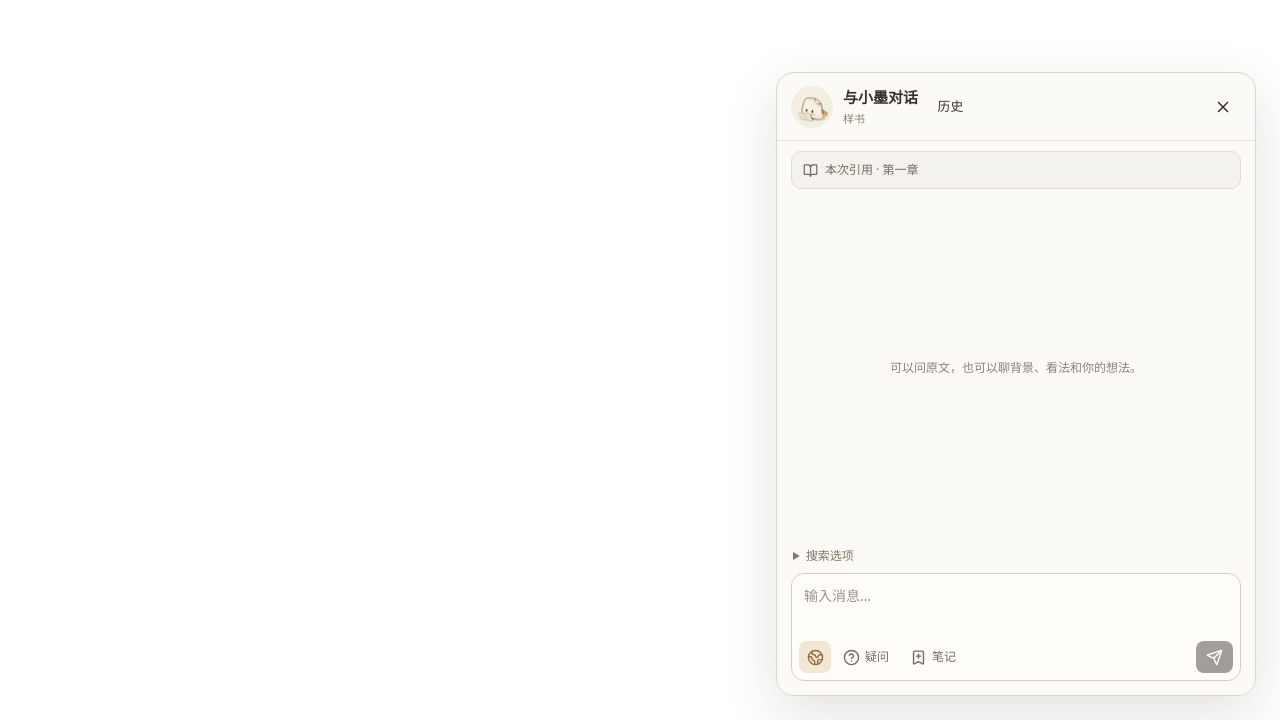
小墨浮动对话 › shows a reversible 笔记 marker instead of saving duplicates
Type "先留在这里。" into the text box labelled "输入消息". click: coordinates (1016, 605)
box: [792,574,1240,636]
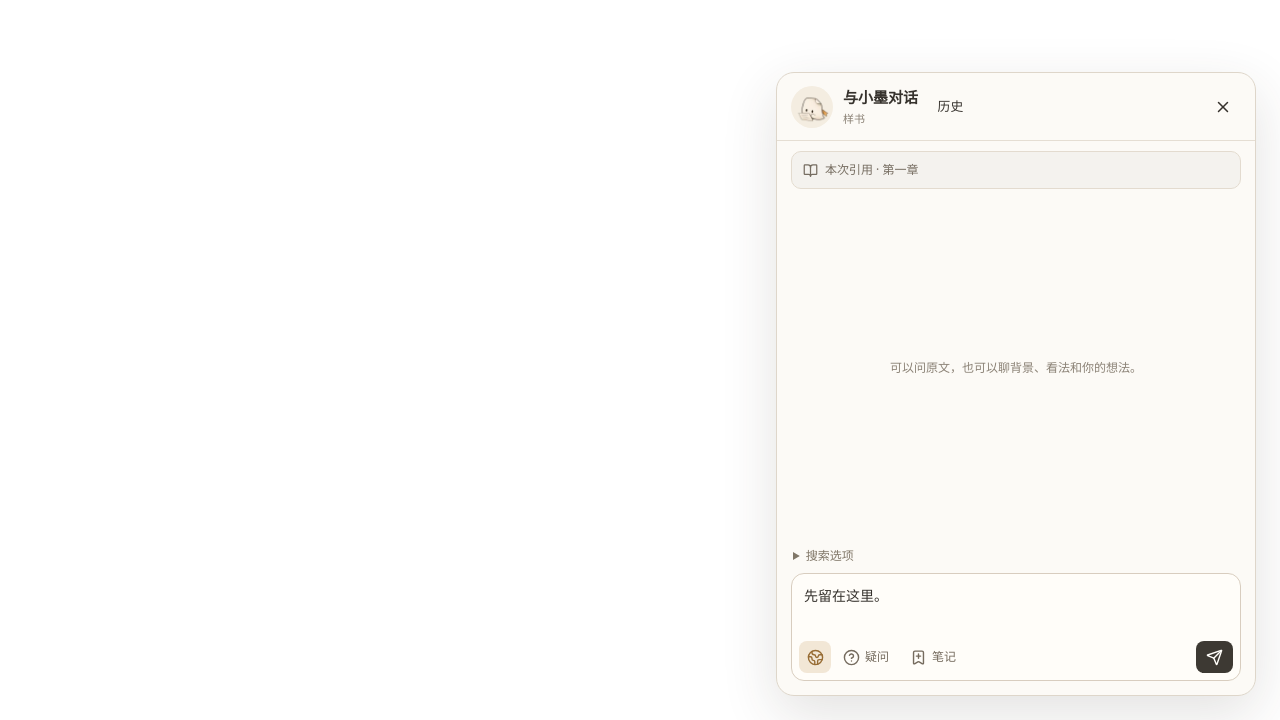
Click the button with aria-label "标记笔记". click: coordinates (933, 657)
box: [901,641,965,673]
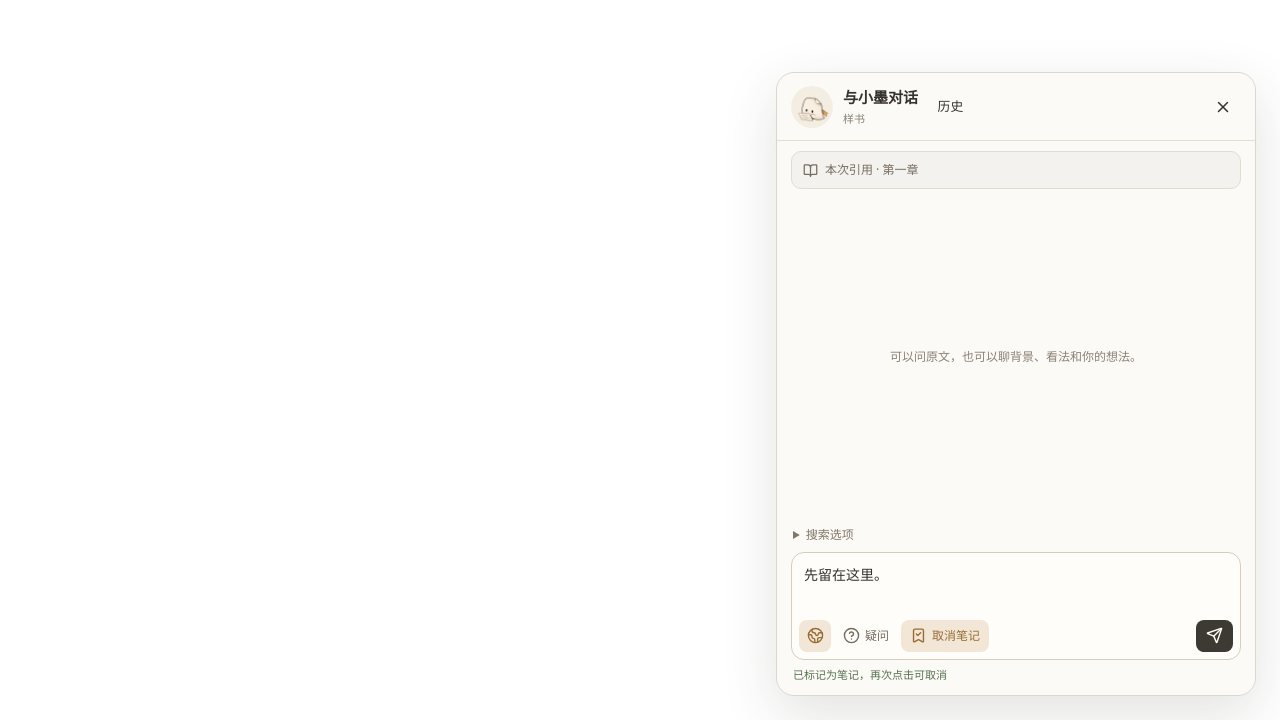
Expected: the message shows "已标记为笔记", [793,666,947,682]
Click the button with aria-label "取消笔记标记". click: coordinates (945, 636)
box: [901,620,989,652]
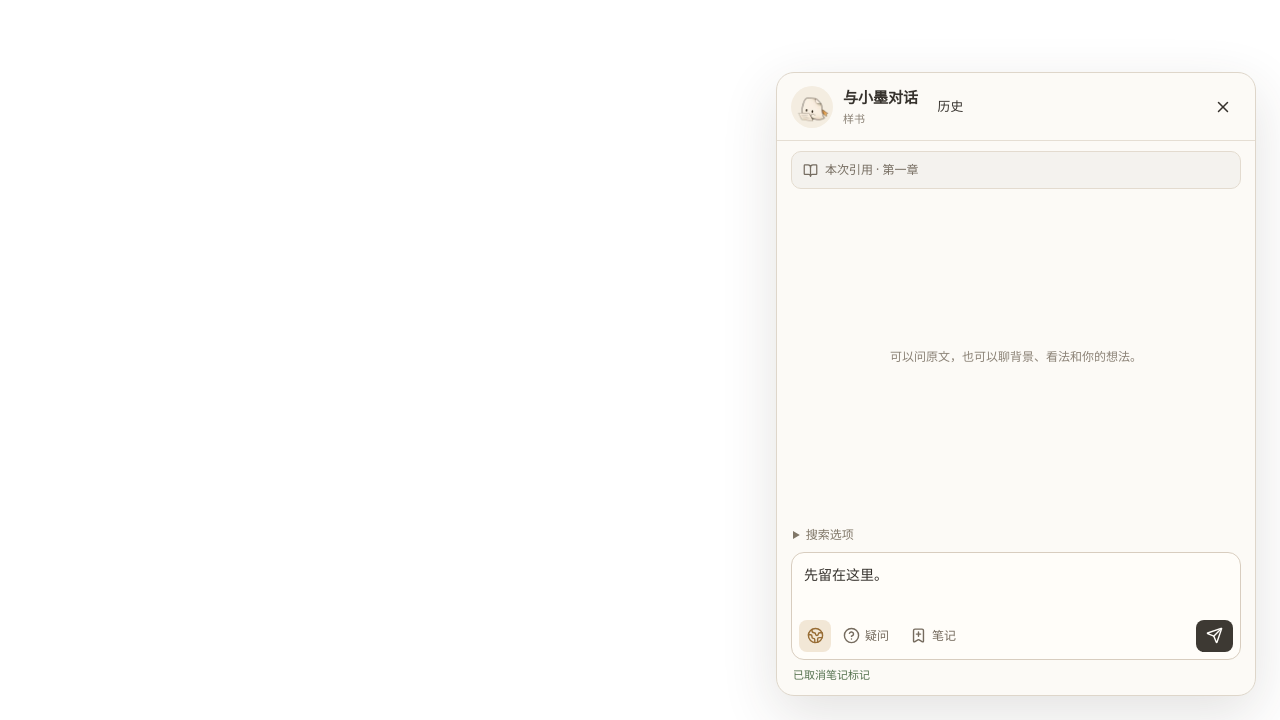
Expected: the message reads "已取消笔记标记", [793,666,870,682]
